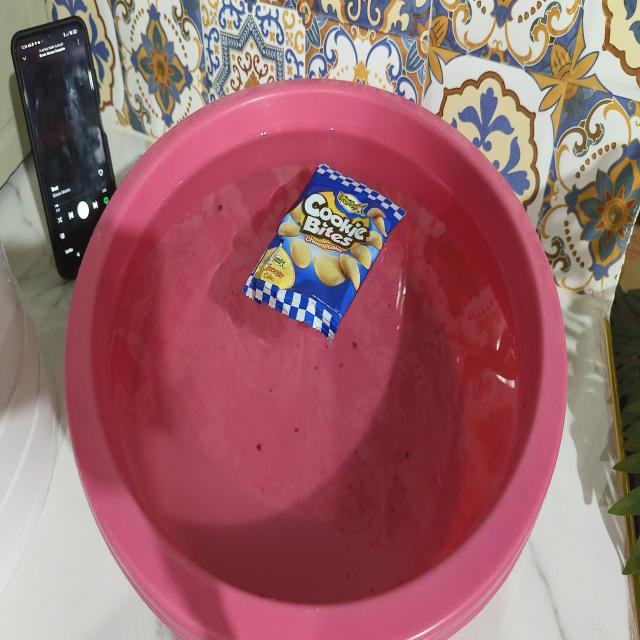Plastic Wrapper: (244, 163, 405, 343)
